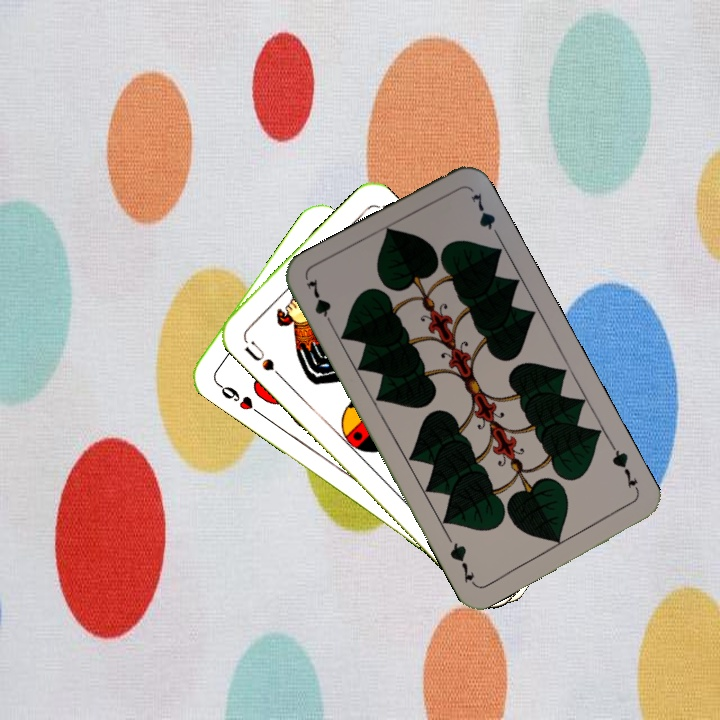G7: (301, 275, 337, 332), (607, 441, 642, 496)
H9: (212, 378, 263, 417)
SU: (239, 334, 285, 381)
